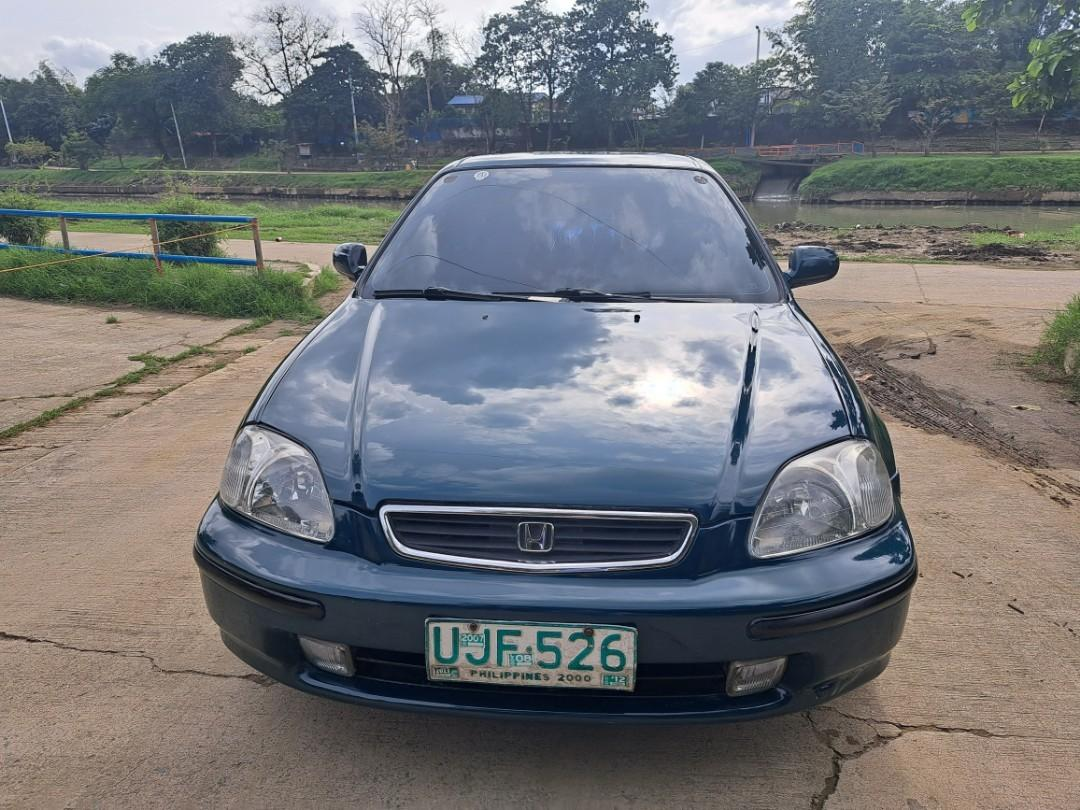car: (190, 145, 923, 730)
